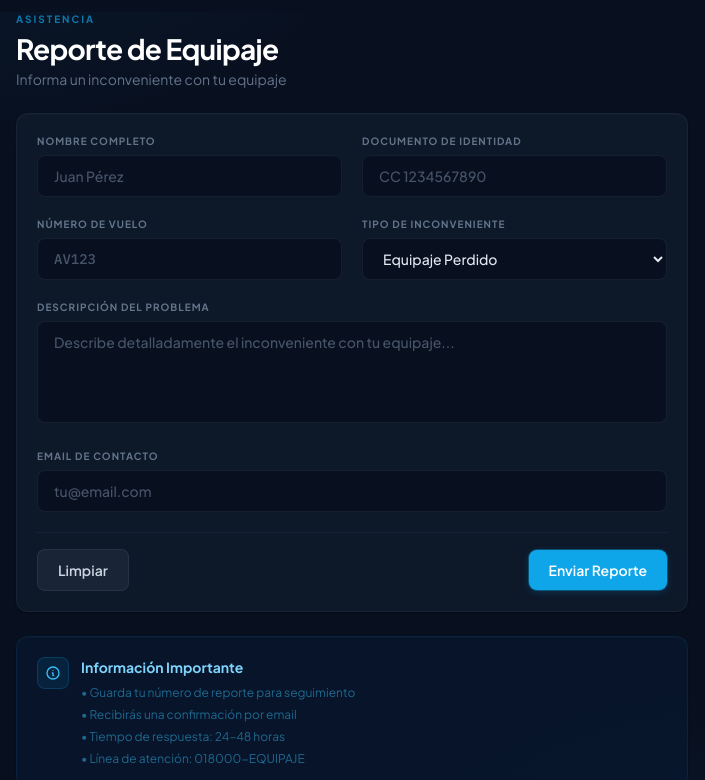
Test case: submits baggage report form successfully
Type "Ana Torres" into the field with placeholder "Juan Pérez" at (190, 176), box [37,155,342,197]
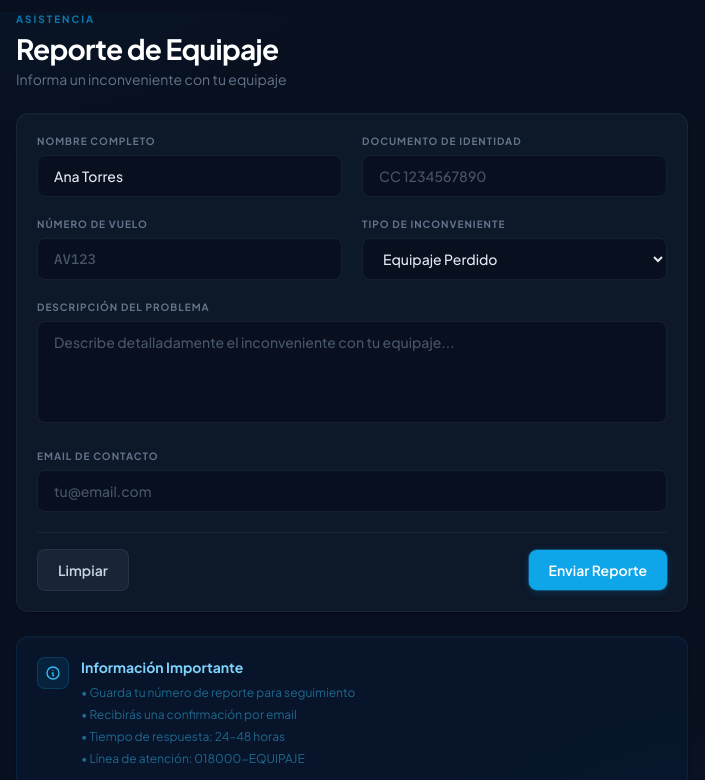
Type "CC789456" into the field with placeholder "CC 1234567890" at (514, 176), box [362,155,667,197]
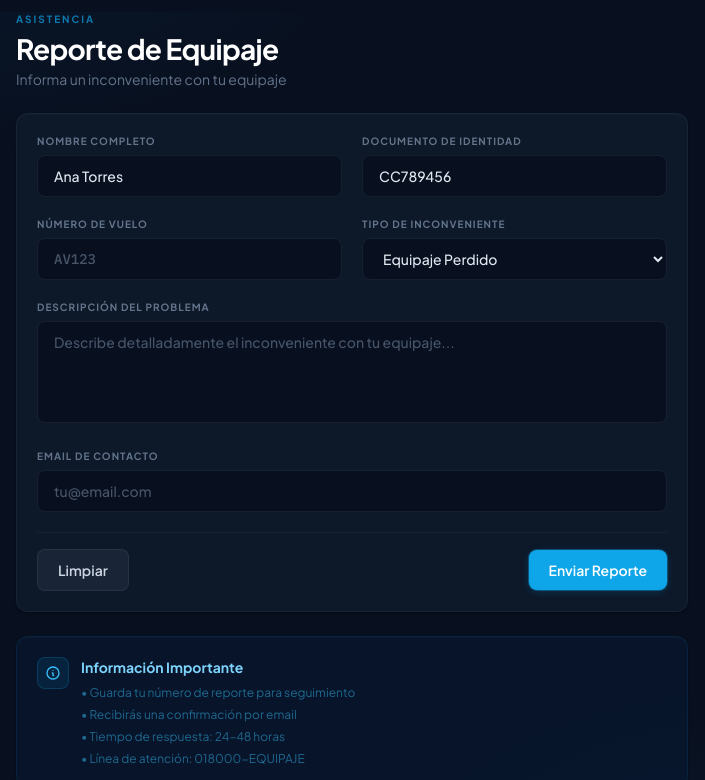
Type "FT300" into the field with placeholder "AV123" at (190, 259), box [37,238,342,280]
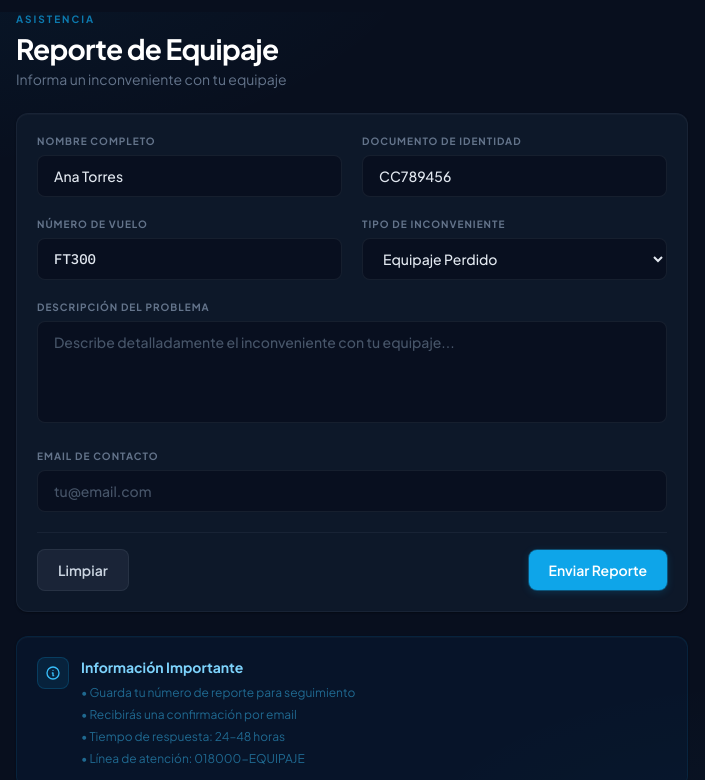
Select "Equipaje Perdido" in the dropdown at (514, 259), box [362,238,667,280]
Type "Maleta perdida" into the text box with placeholder "Describe detalladamente el inconveniente con tu equipaje..." at (352, 372), box [37,321,667,423]
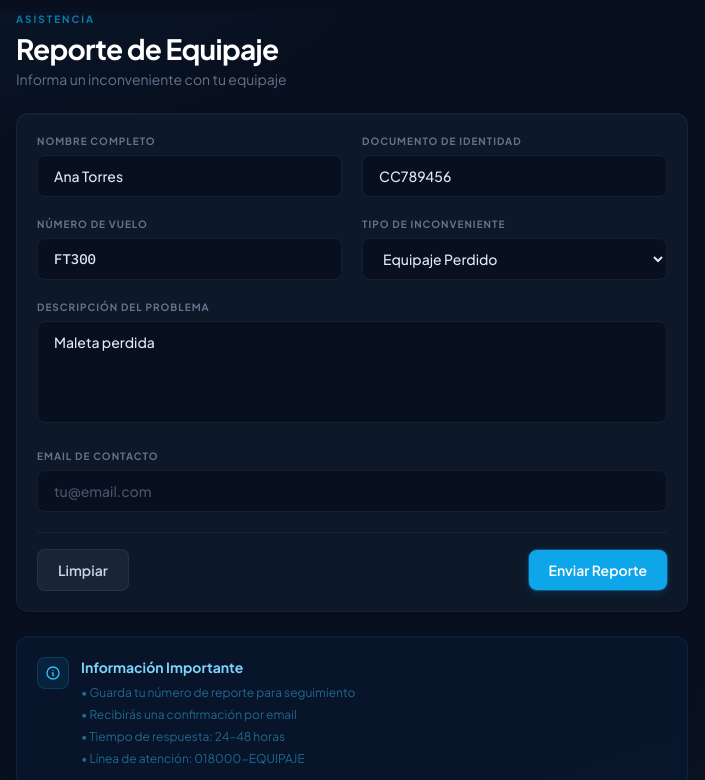
Type "ana.torres@example.com" into the field with placeholder "tu@email.com" at (352, 491), box [37,470,667,512]
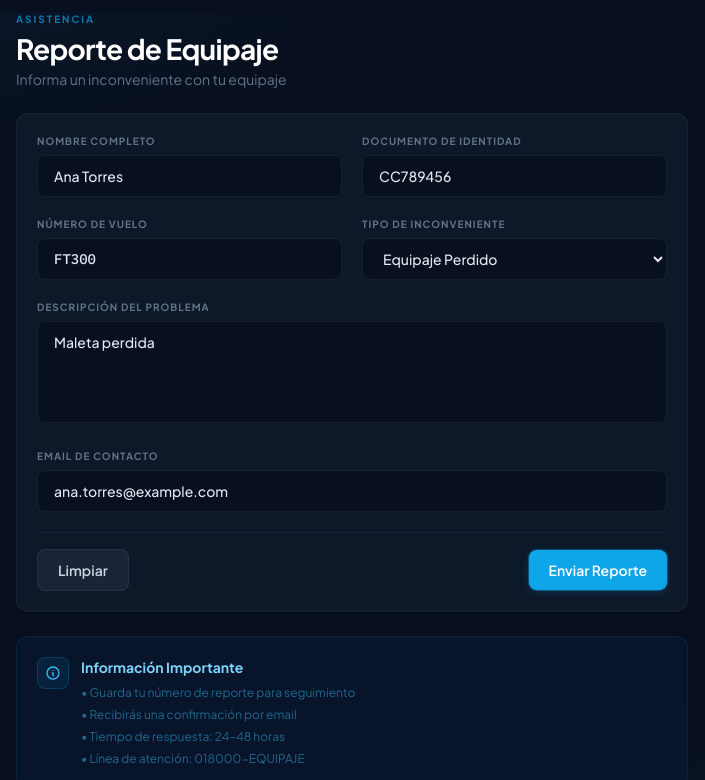
Click the button "Enviar Reporte" at (598, 570), box [529,550,667,590]
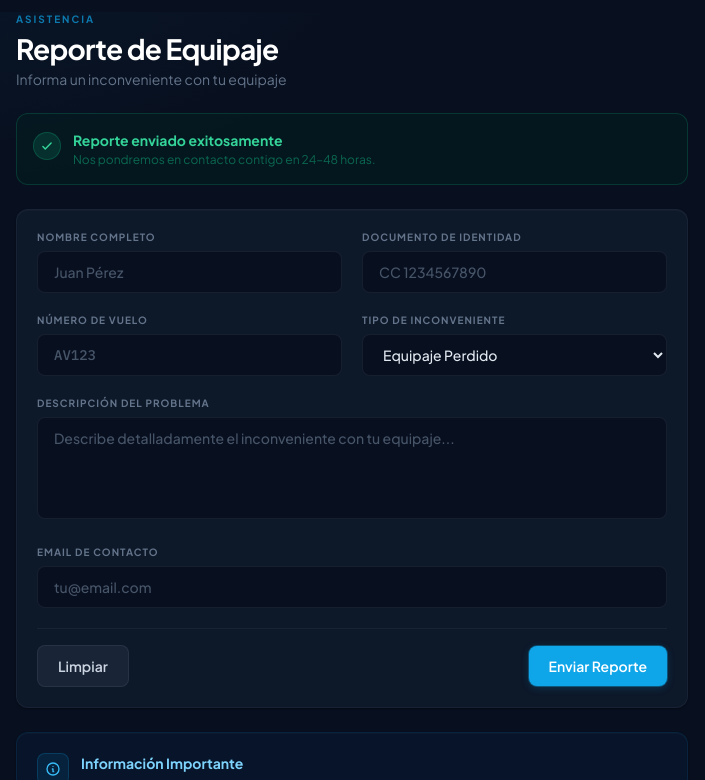
expect the text "Reporte enviado exitosamente" is shown: met, box [73,131,282,149]
